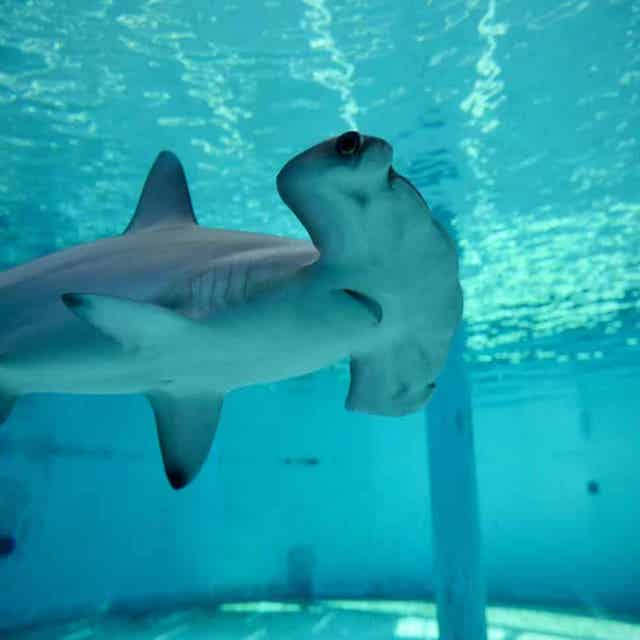hammerhead: (223, 114, 491, 418)
